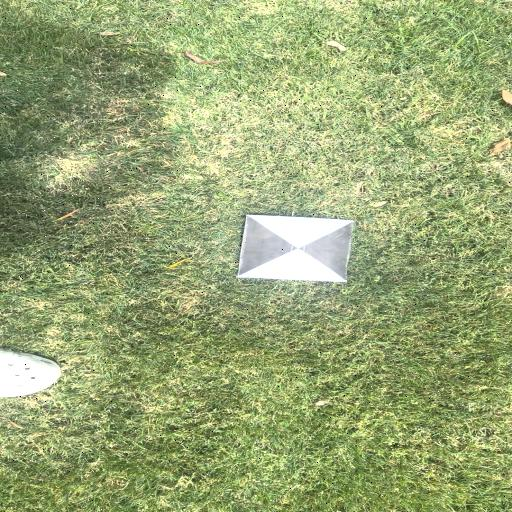target: (239, 214, 356, 281)
